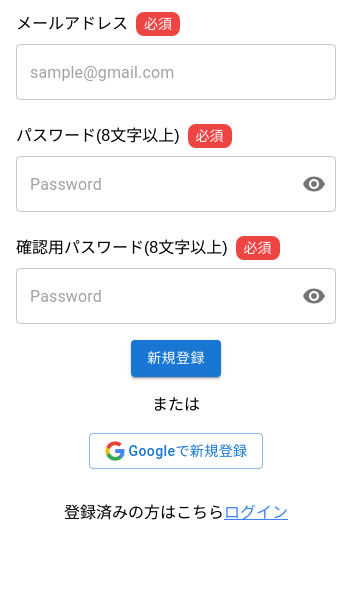
Test: SignUp Component › バリデーションエラーが正しく表示される
Click the button with aria-label "signup-button".
click(176, 358)  # box [131, 340, 221, 376]
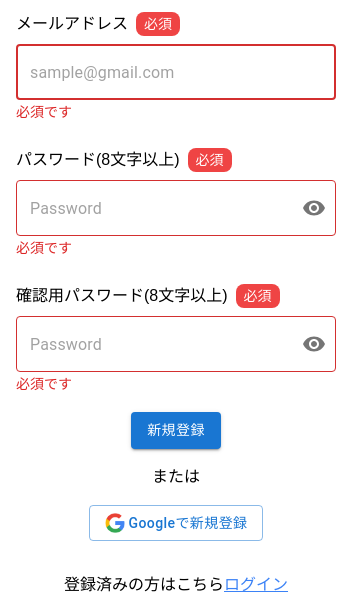
Check: the text "必須です" is shown 3 times, box [16, 104, 72, 120]; [16, 240, 72, 256]; [16, 376, 72, 392]
Check: the 1st text "必須です" is shown, box [16, 104, 72, 120]
Check: the 2nd text "必須です" is shown, box [16, 240, 72, 256]
